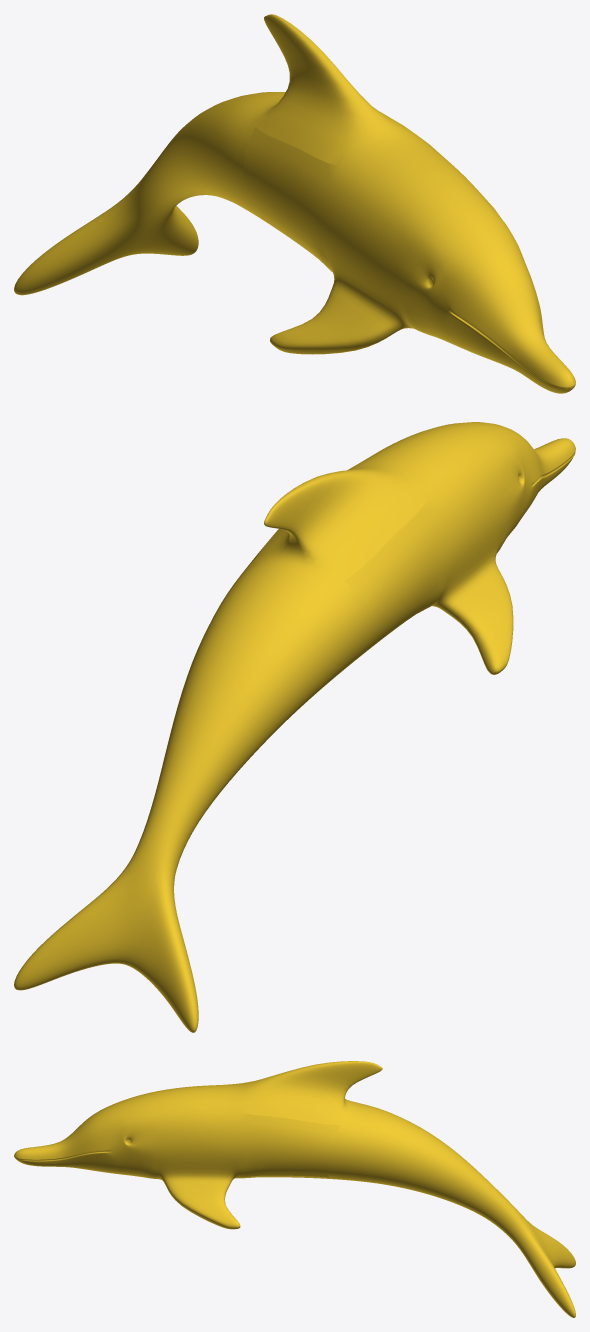
3 renders of one model, top to bottom at view 1: azimuth 30°, elevation 25°; view 2: azimuth 150°, elevation 25°; view 3: azimuth 270°, elevation 25°, orthographic. The views are drawn at different scales.
Visible parts, largest first — view 1: split_parent_0; view 2: split_parent_0; view 3: split_parent_0.
Part boxes in pixels (box(x1,y1,x2,y2)): split_parent_0: box(14, 14, 575, 393); split_parent_0: box(14, 422, 575, 1032); split_parent_0: box(14, 1061, 575, 1317).
Size of the model in its own units: 0.2846 by 0.4534 by 1.
